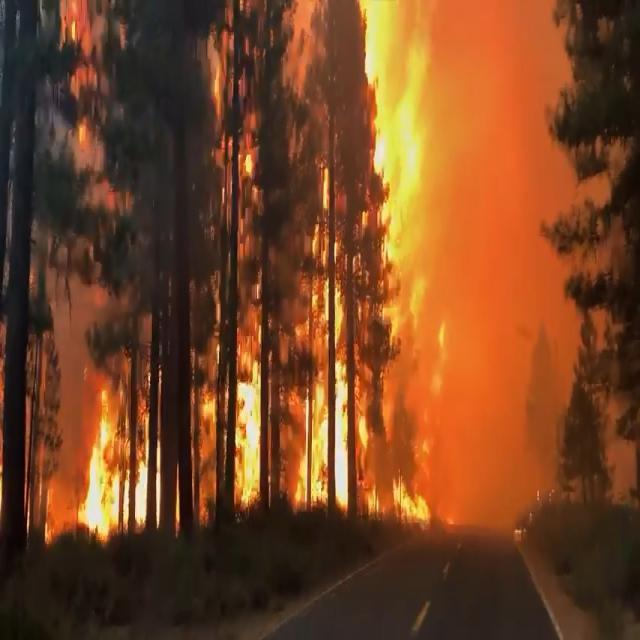Fire: (49, 0, 446, 525)
